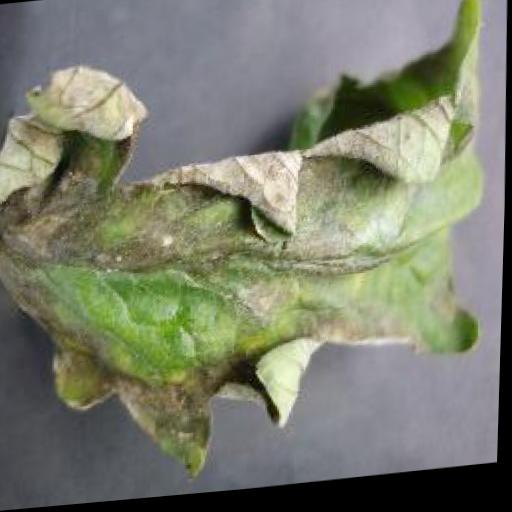Late Blight: (0, 0, 495, 501)
